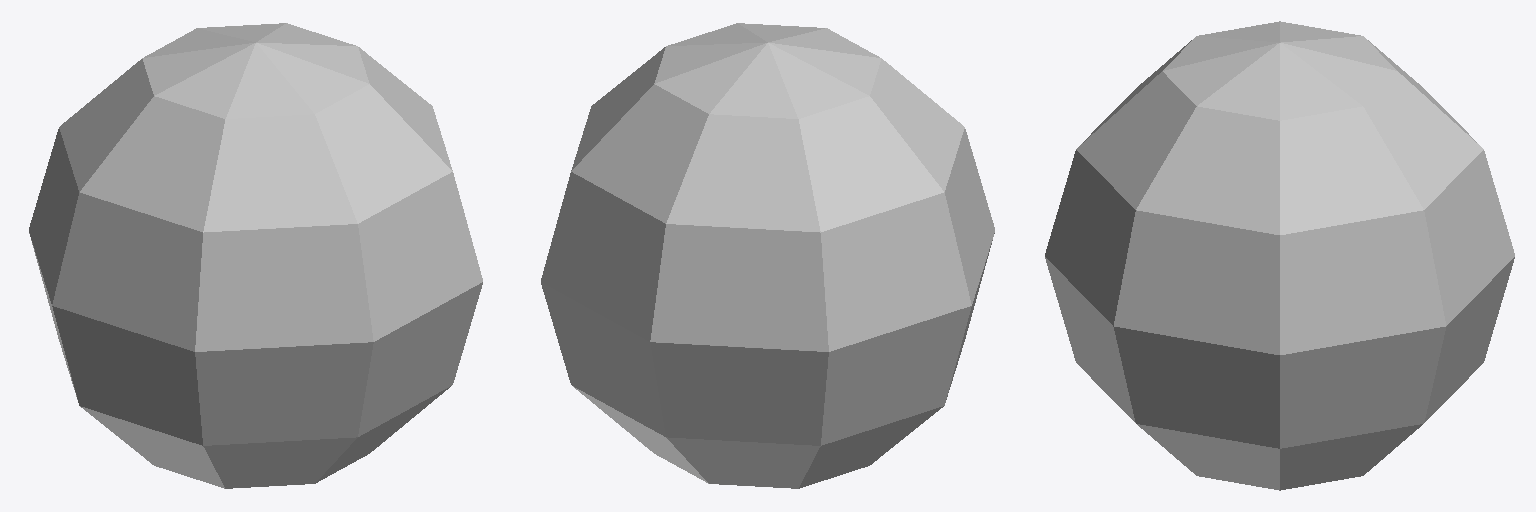
The model's file is ball.obj.
The picture shows the model from 3 angles: view 1: azimuth 30°, elevation 25°; view 2: azimuth 150°, elevation 25°; view 3: azimuth 270°, elevation 25°; orthographic projection.
Visible parts, largest first — view 1: pSphere2; view 2: pSphere2; view 3: pSphere2.
Part boxes in pixels (x1,y1,x2,y2): pSphere2: (29,23,482,488); pSphere2: (541,23,994,488); pSphere2: (1045,21,1514,490).
Size of the model in its own units: 10 by 10 by 10.